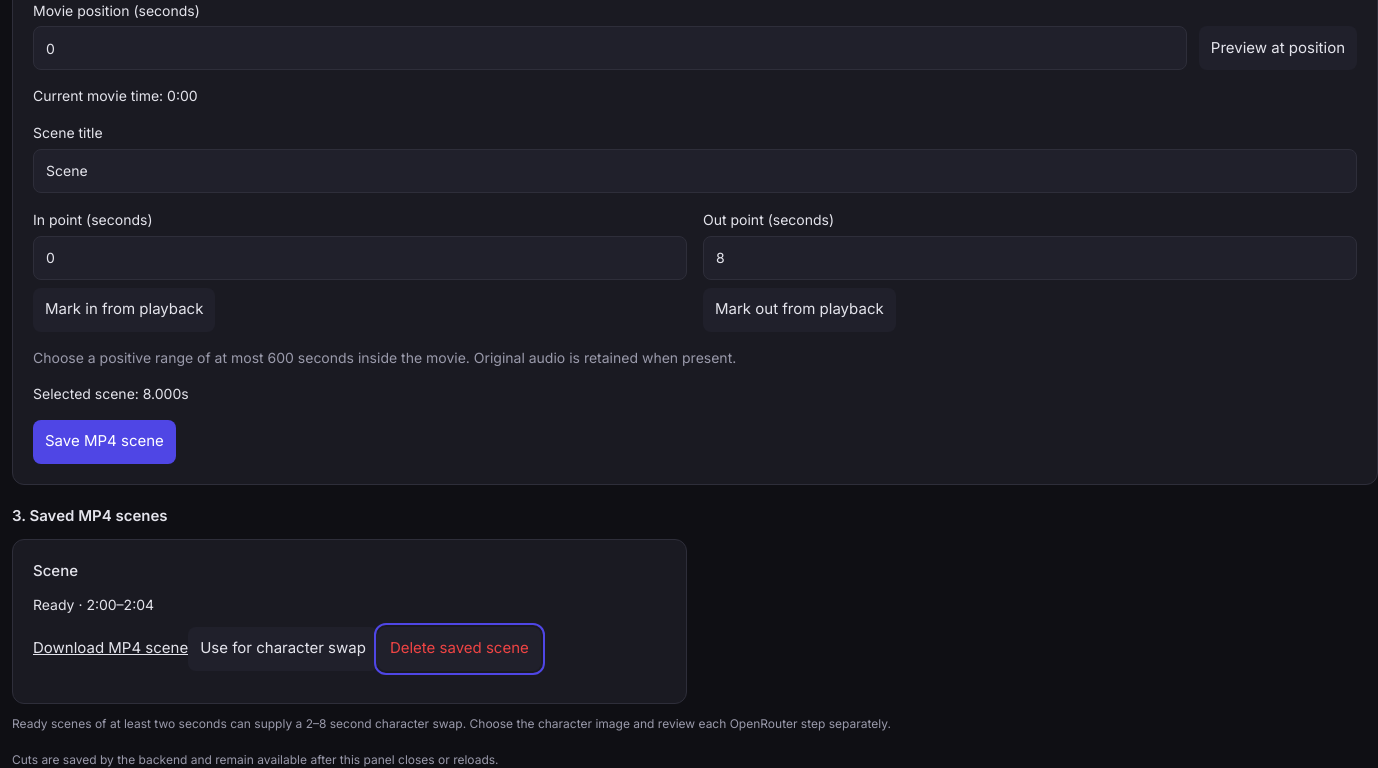
Scenario: focuses the saved-scenes heading after removing the final scene
(page scrolled)
What coordinates should you click on to do the following:
click the button "Delete saved scene"
I would click on:
 (459, 649)
Its box is left=378, top=627, right=541, bottom=671.
(page scrolled)
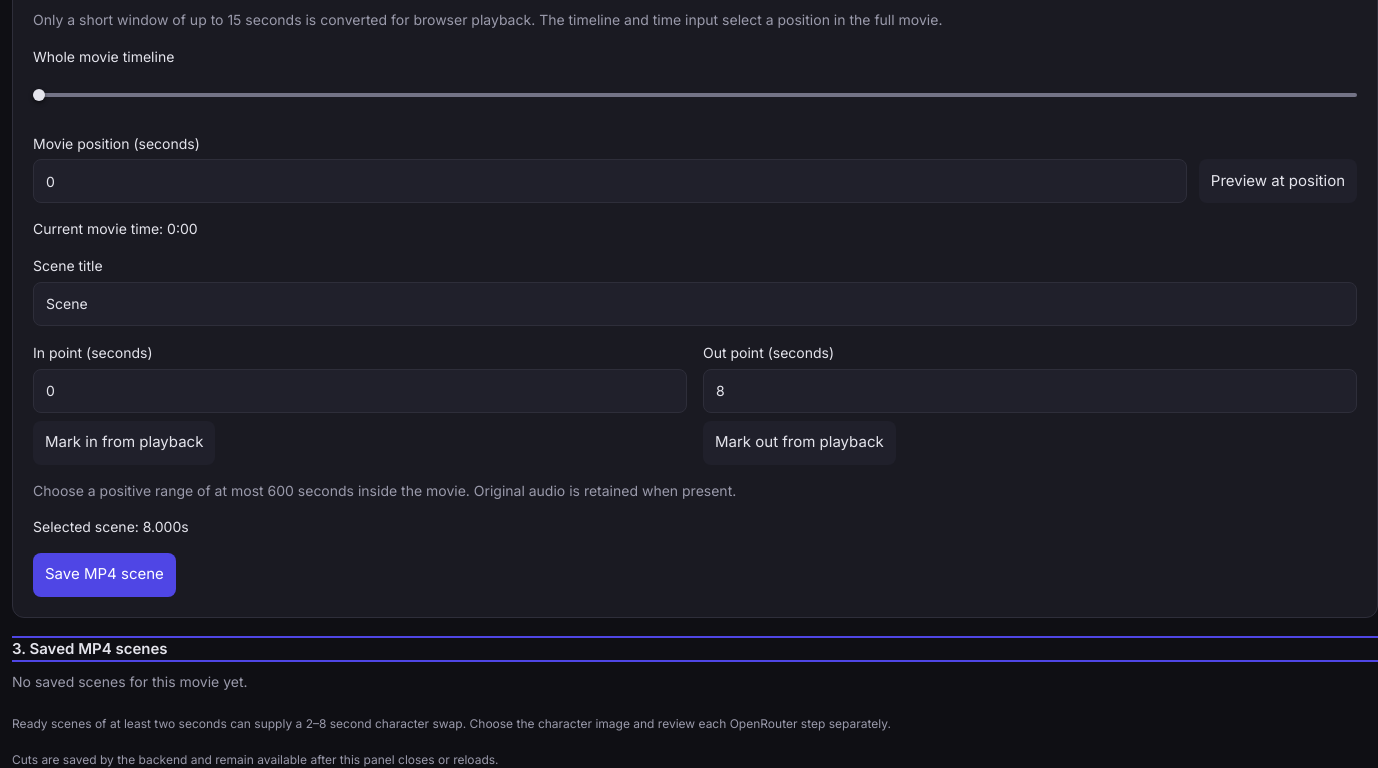
expect the text "No saved scenes for this movie yet" is shown: met, box left=12, top=673, right=248, bottom=690
